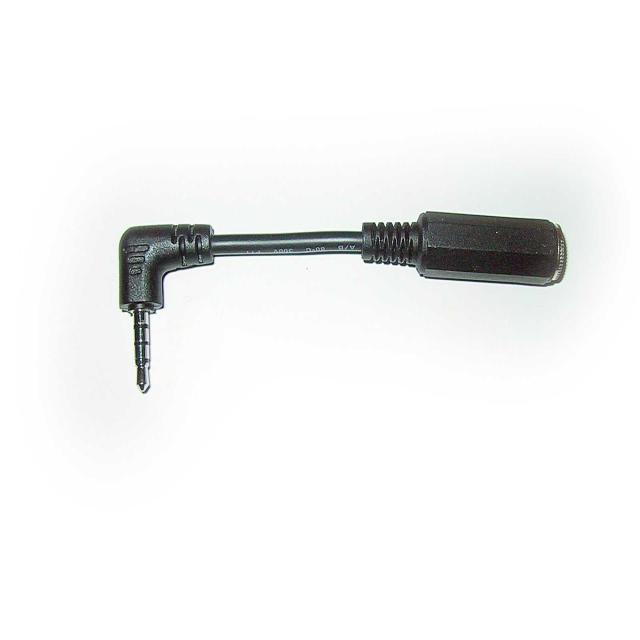microphone: (315, 212, 570, 290)
